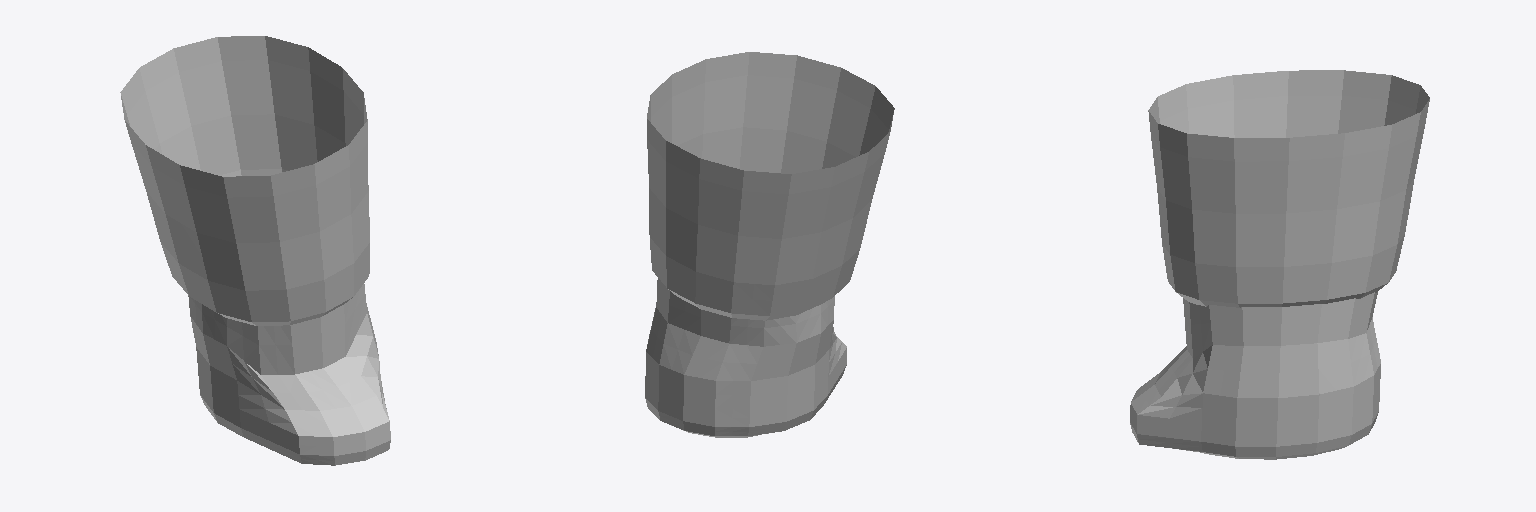
File: leftLeg.obj
The picture shows the model from 3 angles: view 1: azimuth 30°, elevation 25°; view 2: azimuth 150°, elevation 25°; view 3: azimuth 270°, elevation 25°; orthographic projection.
Parts seen in each view (by area): view 1: KNIGHT_meshes_Left_LEG_Left_LEG1.002; view 2: KNIGHT_meshes_Left_LEG_Left_LEG1.002; view 3: KNIGHT_meshes_Left_LEG_Left_LEG1.002.
Boxes of the visible parts, <box> form: KNIGHT_meshes_Left_LEG_Left_LEG1.002: <box>120,36,390,465</box>; KNIGHT_meshes_Left_LEG_Left_LEG1.002: <box>645,52,894,437</box>; KNIGHT_meshes_Left_LEG_Left_LEG1.002: <box>1130,70,1429,459</box>.
Bounding box in the file's own units: 1.46 × 2.16 × 1.79.